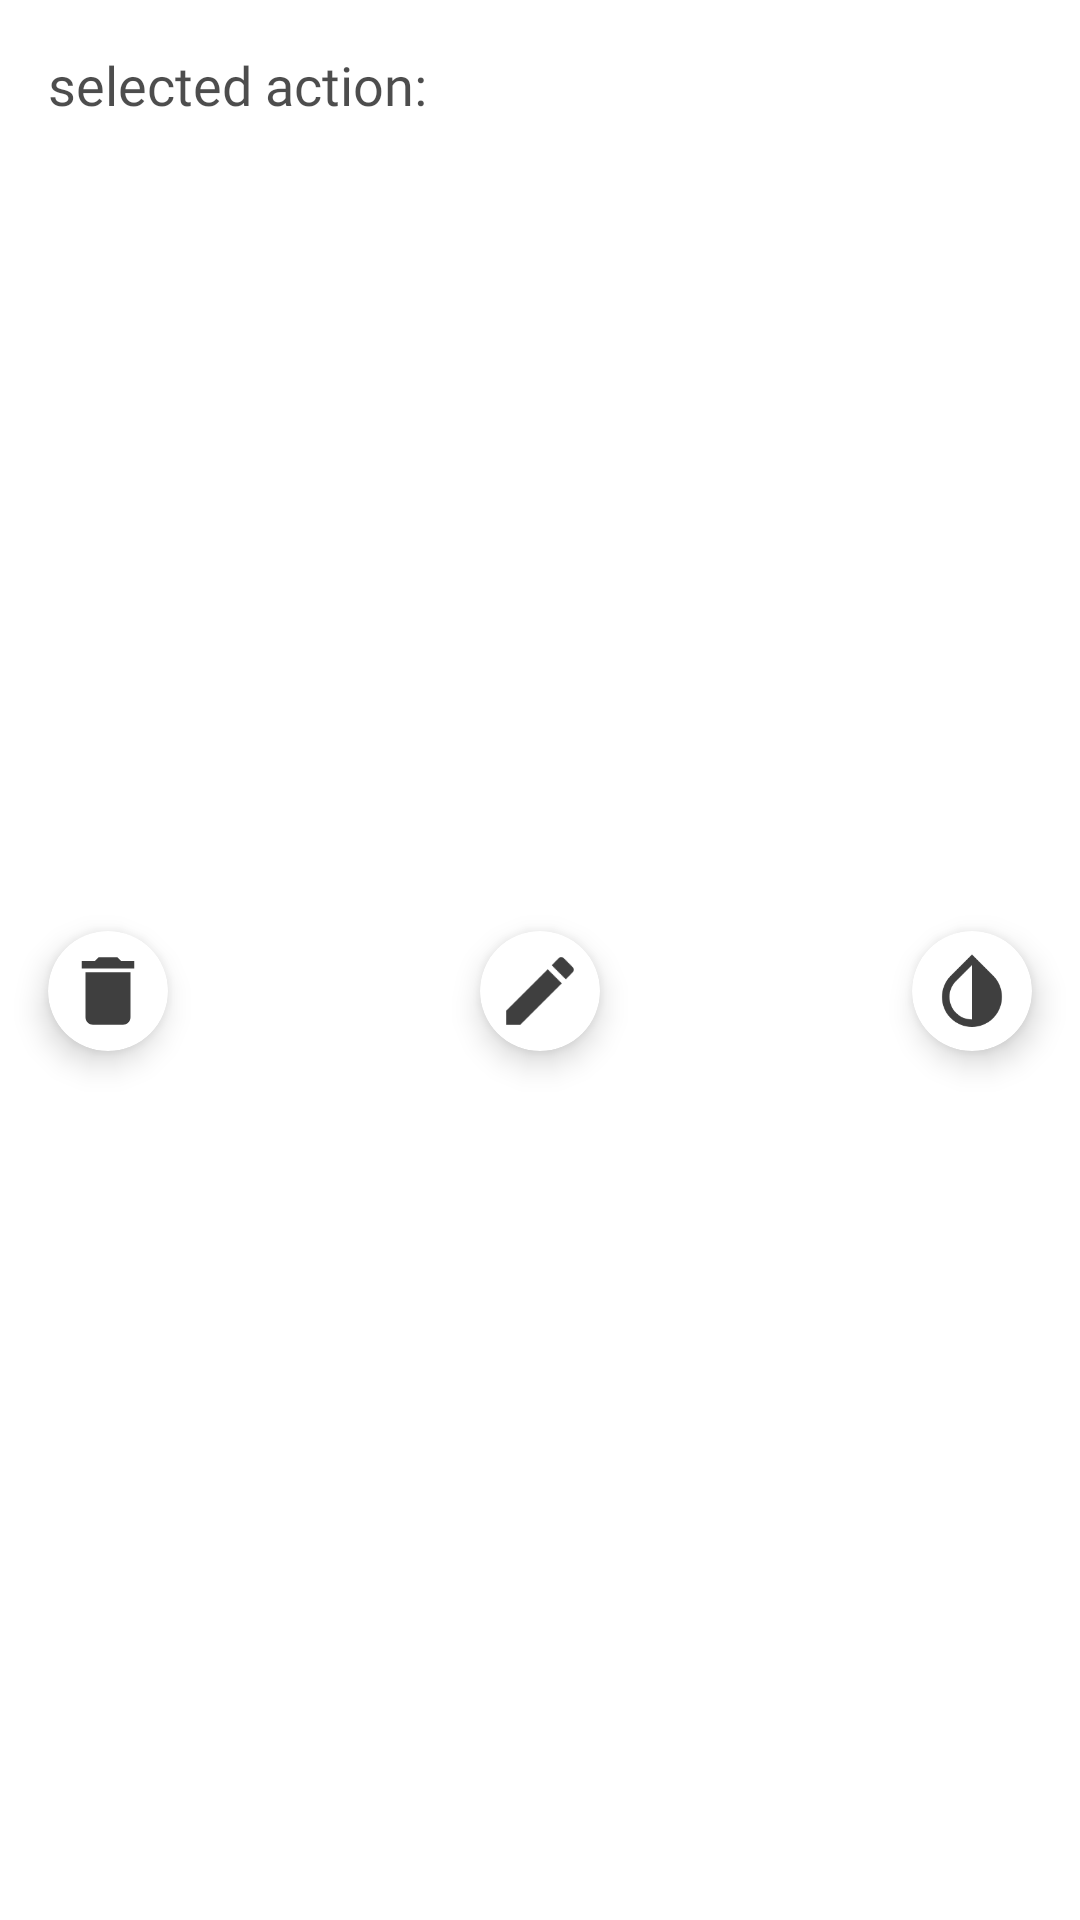

Named icons in this screenshot (1080px×1920px) and their centers, [x,y]:
delete: [108,991]
rename: [540,991]
